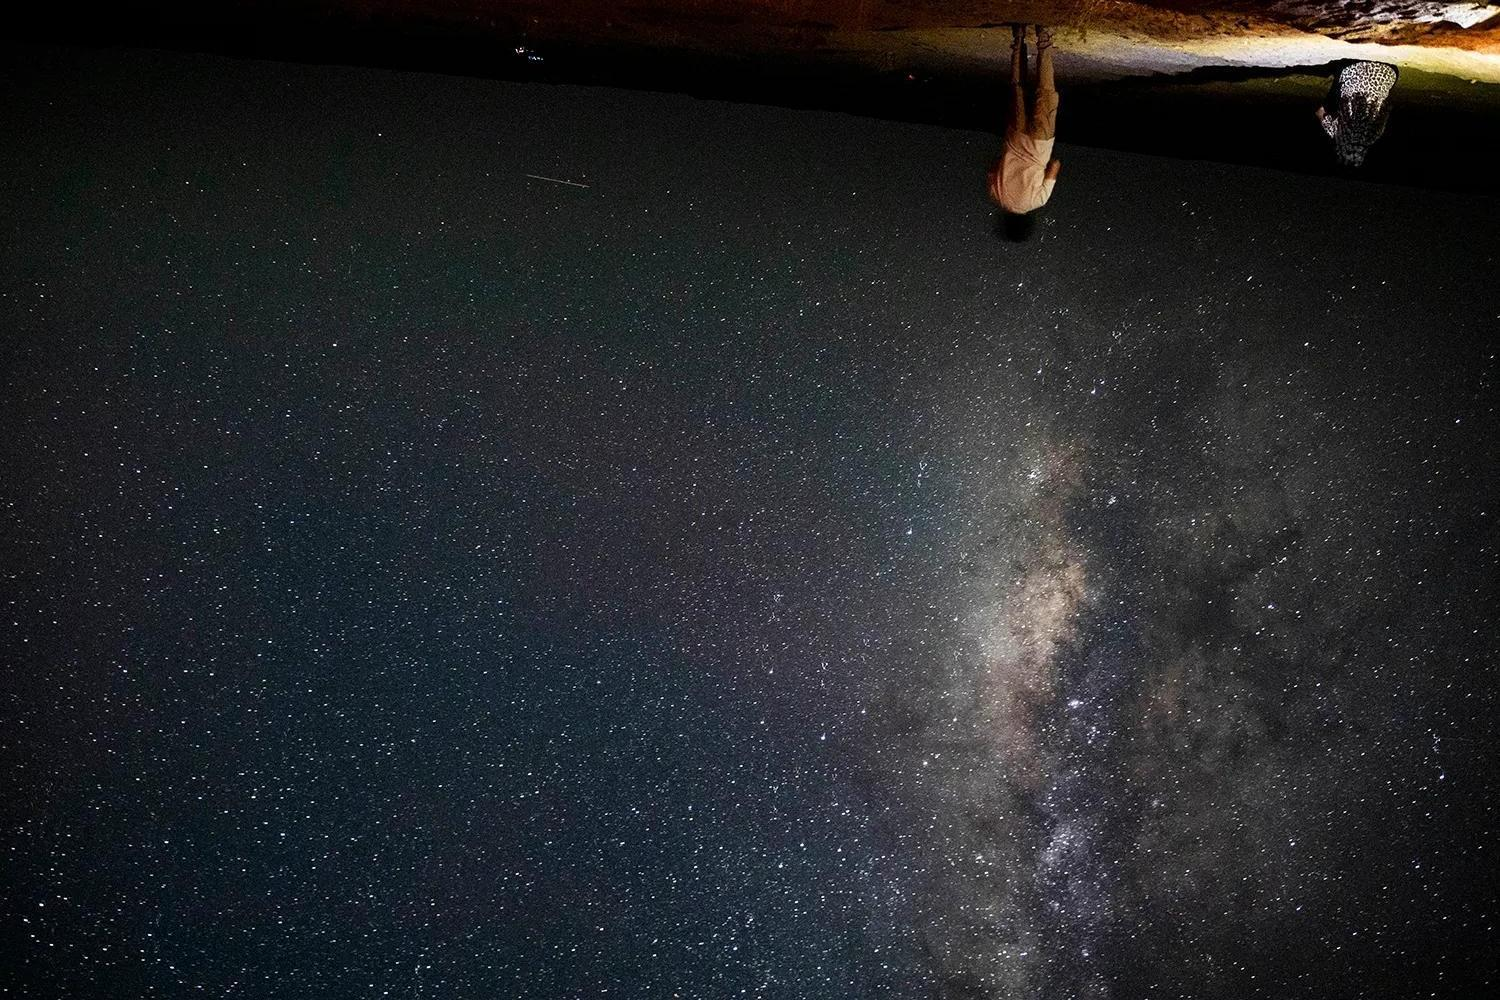meteorite: (494, 165, 615, 193)
